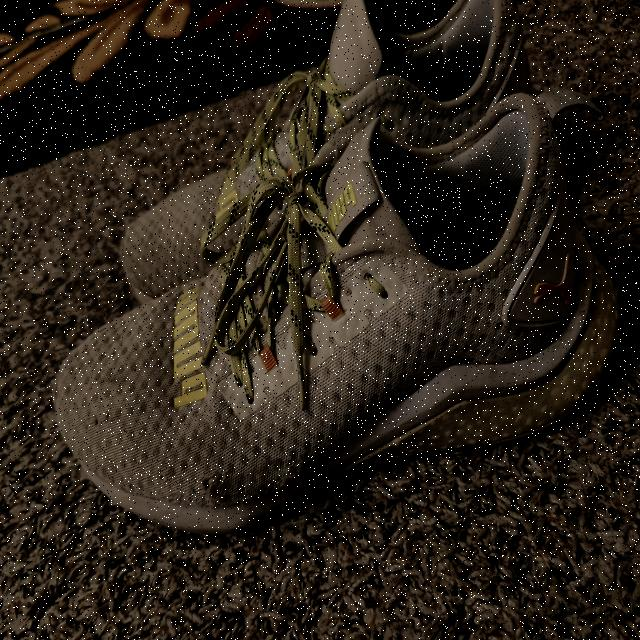white shoes: (57, 0, 620, 535)
